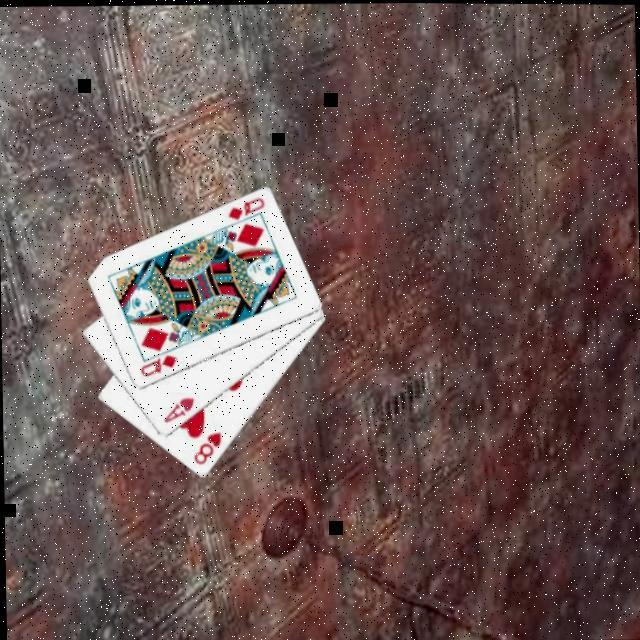8H: (188, 426, 223, 465)
AH: (157, 391, 196, 424)
QD: (222, 191, 266, 220), (135, 349, 177, 378)
